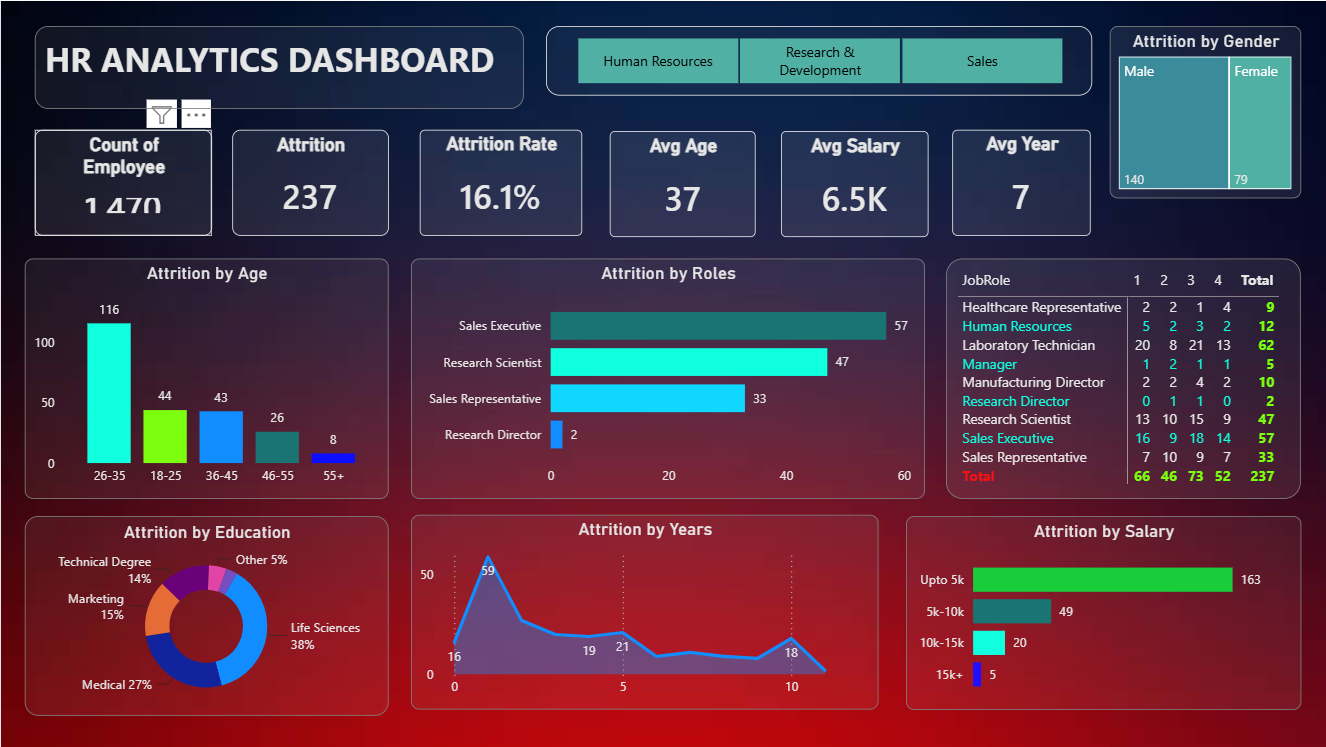

This screenshot's page, from the dashboard's own definition file:
{"tool":"powerbi","page":{"name":"Page 1","canvas":[1280,720],"ordinal":0},"visuals":[{"type":"cardVisual","title":"Attrition Rate","fields":{"Data":["HR_Analytics.AtritionRate"]},"box":[404.2,124.3,156.8,102.5],"z":0},{"type":"cardVisual","title":"Avg Age","fields":{"Data":["Avg(HR_Analytics.Age)"]},"box":[587.5,125.5,141.2,102.5],"z":1000},{"type":"cardVisual","title":"Attrition ","fields":{"Data":["Sum(HR_Analytics.AtritionCount)"]},"box":[223.2,124.3,150.8,102.5],"z":2000},{"type":"cardVisual","title":"Avg Year","fields":{"Data":["Avg(HR_Analytics.YearsAtCompany)"]},"box":[918.1,124.3,133.9,102.5],"z":3000},{"type":"cardVisual","title":"Avg Salary","fields":{"Data":["Avg(HR_Analytics.MonthlyIncome)"]},"box":[752.8,125.5,142.4,102.5],"z":4000},{"type":"donutChart","title":" Attrition by Education ","fields":{"Category":["HR_Analytics.EducationField"],"Y":["Sum(HR_Analytics.AtritionCount)"]},"box":[22.9,497.1,351.1,193],"z":6000},{"type":"columnChart","title":" Attrition by Age","fields":{"Category":["HR_Analytics.AgeGroup"],"Y":["Sum(HR_Analytics.AtritionCount)"]},"box":[22.9,248.5,351.1,231.6],"z":7000},{"type":"pivotTable","fields":{"Rows":["HR_Analytics.JobRole"],"Columns":["HR_Analytics.JobSatisfaction"],"Values":["Sum(HR_Analytics.AtritionCount)"]},"box":[912.1,248.5,342.6,231.6],"z":8000},{"type":"barChart","title":" Attrition by Salary","fields":{"Category":["HR_Analytics.SalarySlab"],"Y":["Sum(HR_Analytics.AtritionCount)"]},"box":[873.5,497.1,381.2,187],"z":9000},{"type":"barChart","title":" Attrition by Roles","fields":{"Y":["Sum(HR_Analytics.AtritionCount)"],"Category":["HR_Analytics.JobRole"]},"box":[395.7,248.5,495.8,231.6],"z":10000},{"type":"stackedAreaChart","title":" Attrition by Years","fields":{"Category":["HR_Analytics.YearsAtCompany"],"Y":["Sum(HR_Analytics.AtritionCount)"]},"box":[395.7,495.8,451.2,188.2],"z":11000},{"type":"treemap","title":" Attrition by Gender","fields":{"Group":["HR_Analytics.Gender"],"Values":["Sum(HR_Analytics.AtritionCount)"]},"box":[1070.1,24.1,184.6,166.5],"z":12000},{"type":"slicer","fields":{"Values":["HR_Analytics.Department"]},"box":[526,24.1,527.2,67.6],"z":12001},{"type":"cardVisual","title":"Count of Employee","fields":{"Data":["CountNonNull(HR_Analytics.EmpID)"]},"box":[32.6,124.3,171.3,102.5],"z":12002},{"type":"textbox","box":[32.6,24.1,471.7,79.6],"z":12003}]}

Visuals, with their boxes in screenshot pixels (x1, y1, x2, y2), scaled from the page's 1280x720 canvas onto the 1326x747 screenshot:
"Attrition Rate" cardVisual: locate(419, 129, 581, 235)
"Avg Age" cardVisual: locate(609, 130, 755, 237)
"Attrition " cardVisual: locate(231, 129, 387, 235)
"Avg Year" cardVisual: locate(951, 129, 1090, 235)
"Avg Salary" cardVisual: locate(780, 130, 927, 237)
" Attrition by Education " donutChart: locate(24, 516, 387, 716)
" Attrition by Age" columnChart: locate(24, 258, 387, 498)
pivotTable - HR_Analytics.JobRole x HR_Analytics.JobSatisfaction: locate(945, 258, 1300, 498)
" Attrition by Salary" barChart: locate(905, 516, 1300, 710)
" Attrition by Roles" barChart: locate(410, 258, 924, 498)
" Attrition by Years" stackedAreaChart: locate(410, 514, 877, 710)
" Attrition by Gender" treemap: locate(1109, 25, 1300, 198)
slicer - HR_Analytics.Department: locate(545, 25, 1091, 95)
"Count of Employee" cardVisual: locate(34, 129, 211, 235)
textbox: locate(34, 25, 522, 108)
